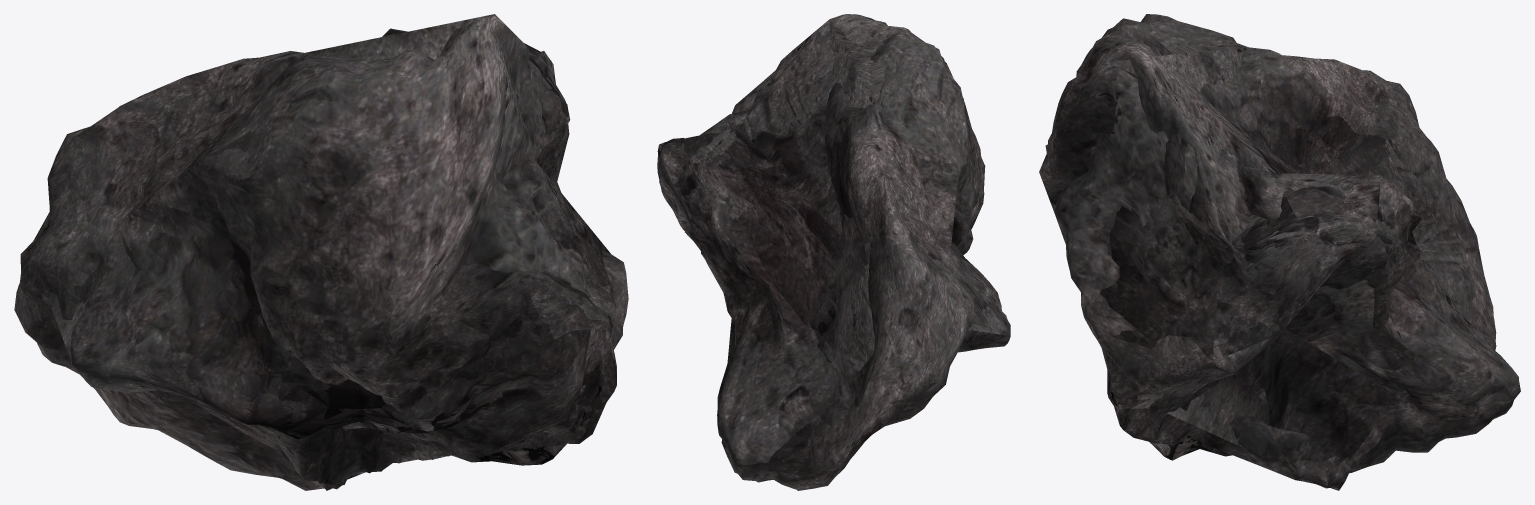
File: Ast01.dae
3 renders of one model, left to right at view 1: azimuth 30°, elevation 25°; view 2: azimuth 150°, elevation 25°; view 3: azimuth 270°, elevation 25°, orthographic. The views are drawn at different scales.
Visible parts, largest first — view 1: detail0, detail1, detail2; view 2: detail0, detail2, detail1; view 3: detail0, detail2, detail1.
Boxes of the visible parts, x1,y1,x2,y2 form: detail0: (14, 14, 628, 490); detail1: (20, 14, 626, 490); detail2: (45, 14, 614, 479); detail0: (657, 14, 1010, 490); detail2: (674, 19, 1009, 477); detail1: (657, 14, 1010, 490); detail0: (1041, 14, 1520, 490); detail2: (1039, 19, 1435, 485); detail1: (1039, 14, 1513, 488).
Bounding box in the file's own units: 151 × 156 × 158.
